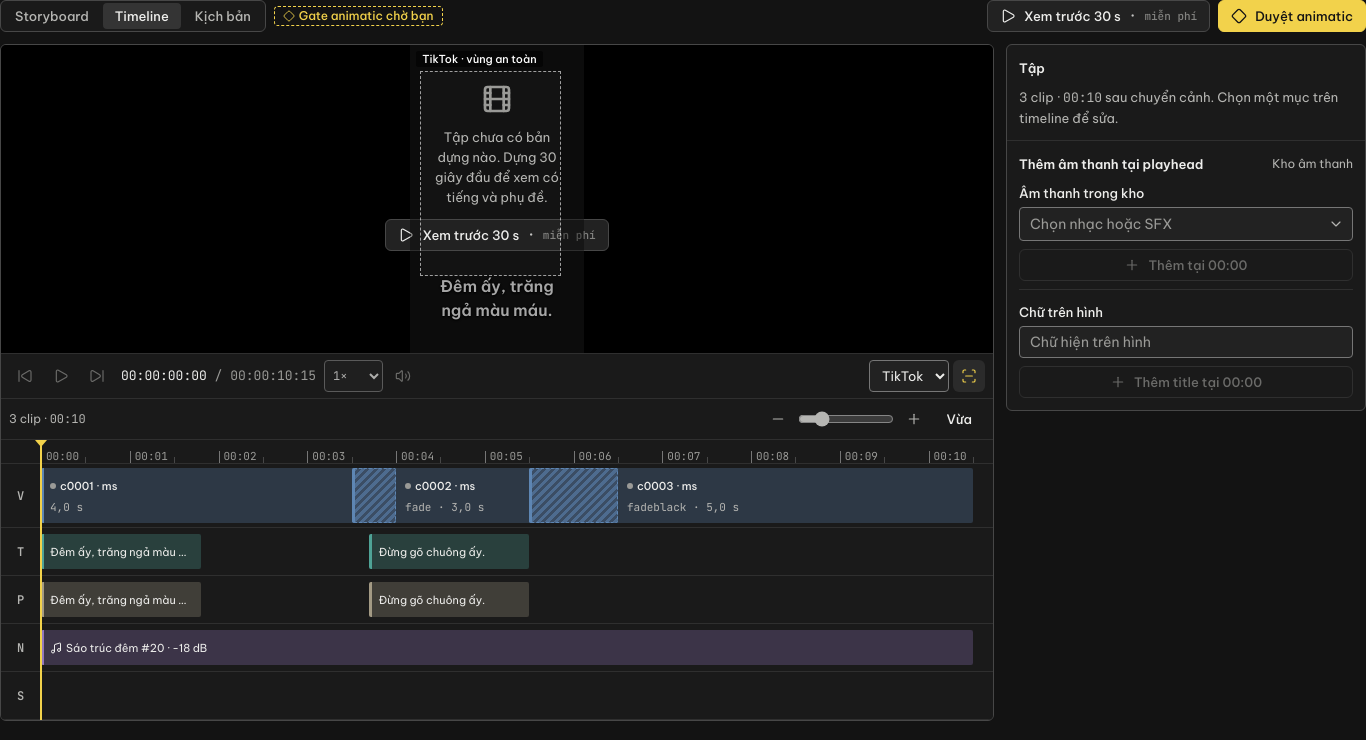
Test: Task I (smoke) › Studio: chọn clip → inspector clip
This screenshot has width=1366, height=740.
Click the button "c0002 · ms fade · 3,0 s": coordinates (433, 486) x1=352 y1=468 x2=618 y2=523
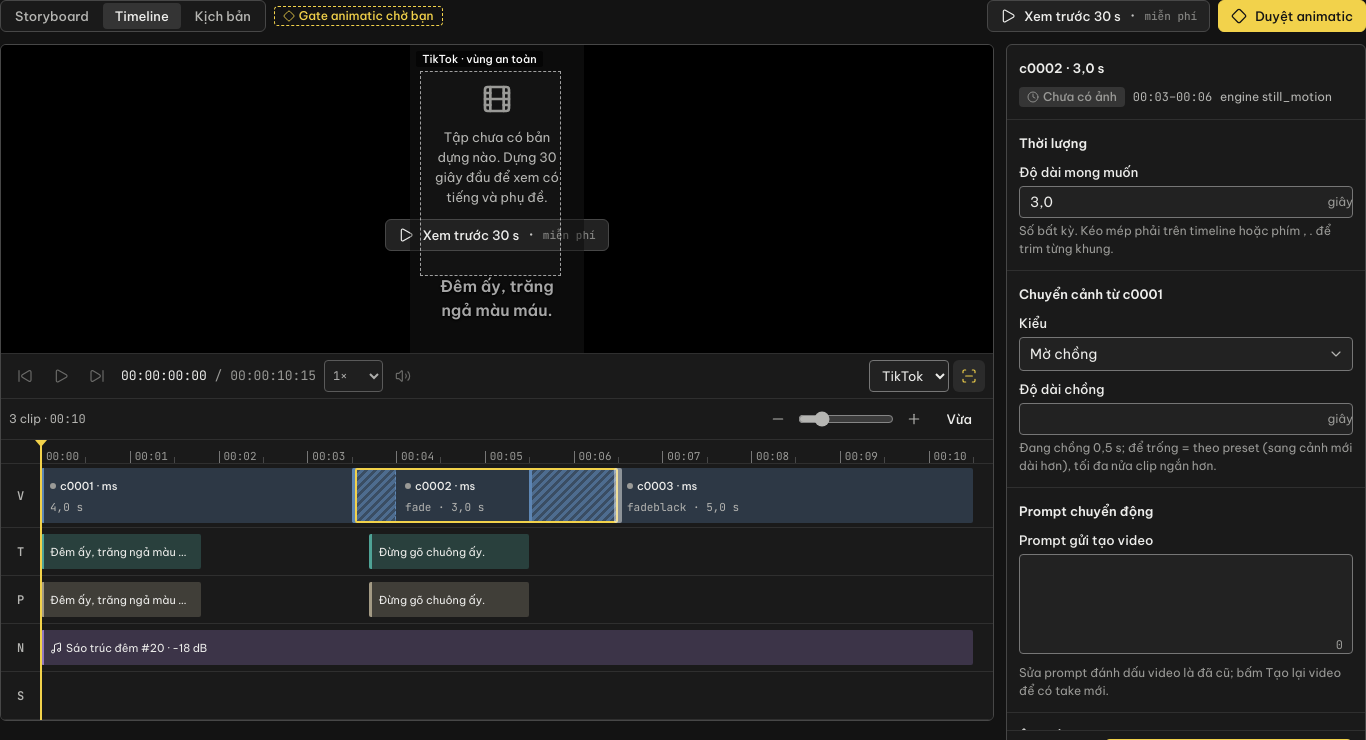
Expected: the text "Chuyển cảnh từ c0001" is shown, x1=1019 y1=283 x2=1163 y2=305
Expected: the text "Đang chồng 0,5 s" is shown, x1=1019 y1=440 x2=1352 y2=473
Expected: the text "Tạo lại video" is shown, x1=1019 y1=665 x2=1341 y2=698
